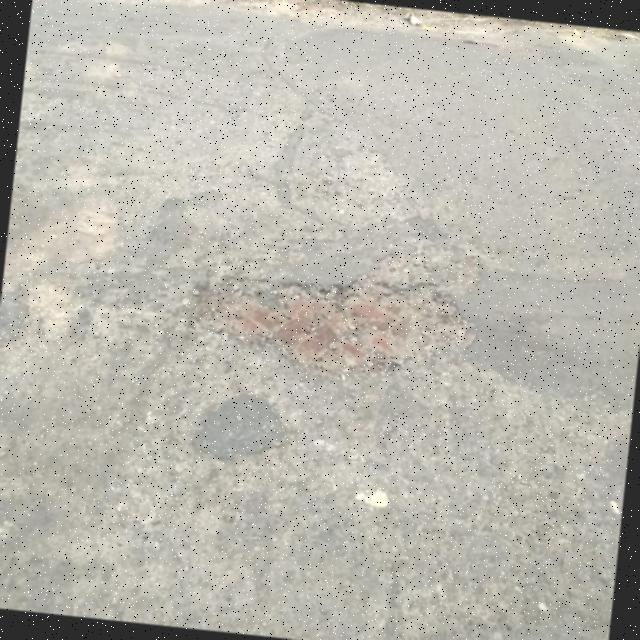Pothole: (196, 278, 477, 373)
